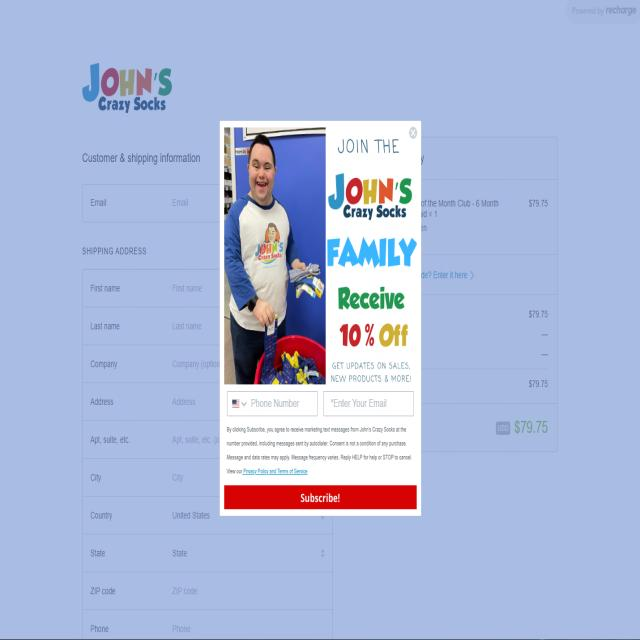sneaking: (218, 110, 422, 520)
